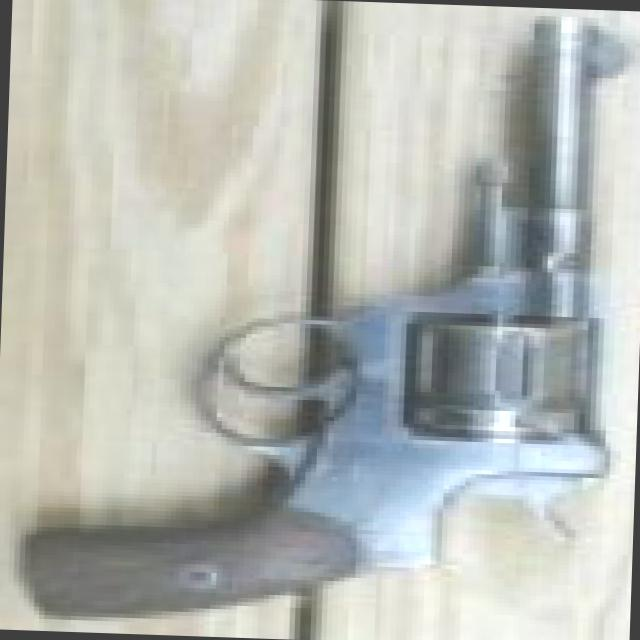handgun: (16, 2, 629, 638)
